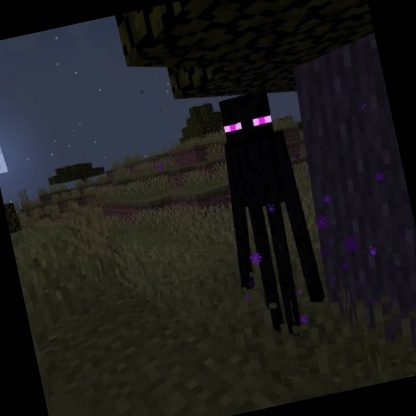enderman: (197, 83, 335, 349)
